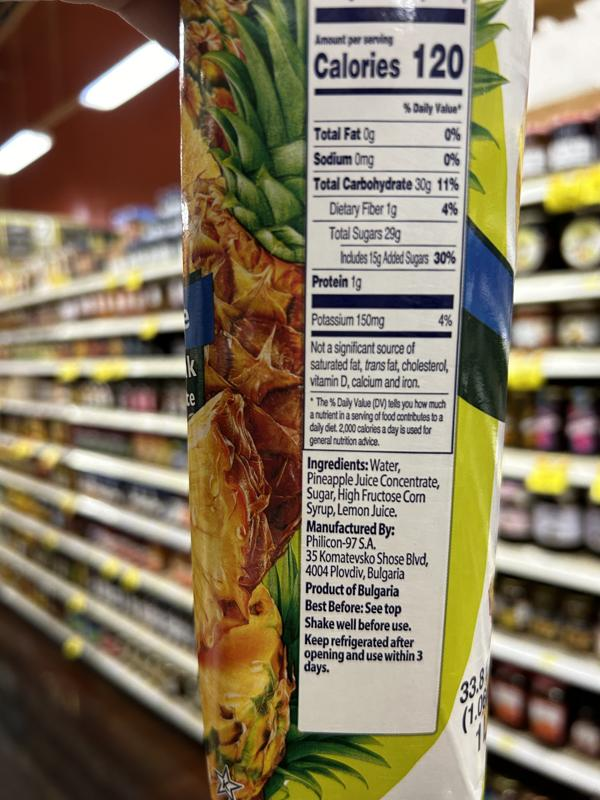ingredients: (305, 455, 440, 518)
